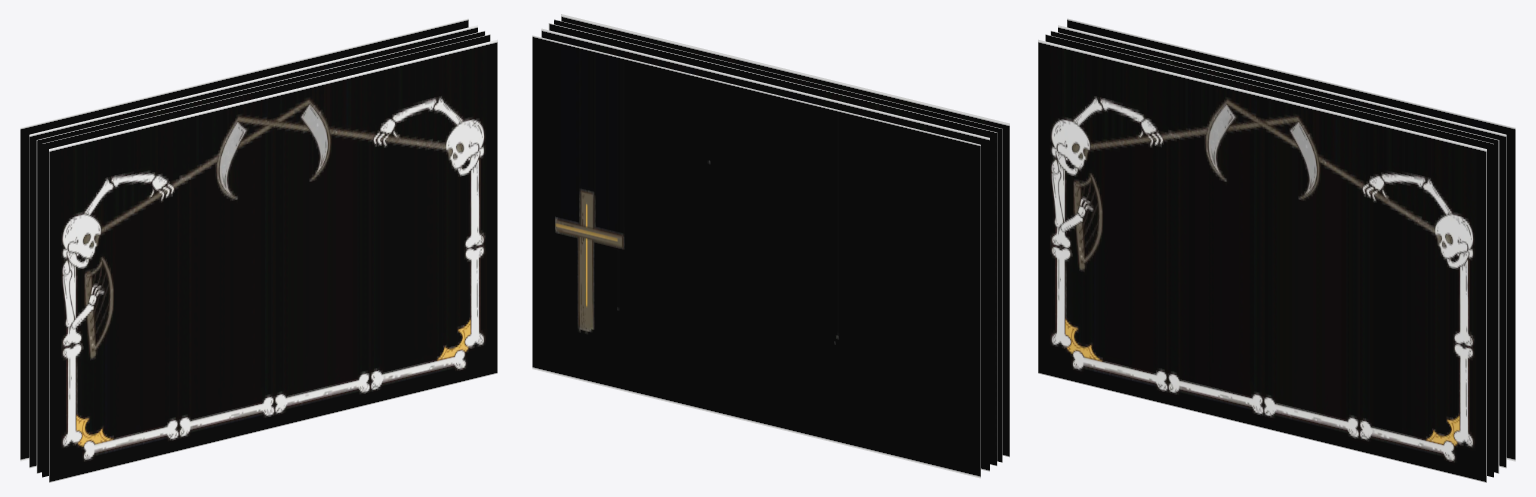
File: dead.glb
3 renders of one model, left to right at view 1: azimuth 30°, elevation 25°; view 2: azimuth 150°, elevation 25°; view 3: azimuth 330°, elevation 25°, orthographic.
Parts seen in each view (by area): view 1: scene; view 2: scene; view 3: scene.
Boxes of the visible parts, x1,y1,x2,y2 form: scene: (20,18,497,482); scene: (532,14,1009,478); scene: (1038,18,1515,482).
Bounding box in the file's own units: 1.41 × 1 × 0.2143.
2 materials, 1 textured.
